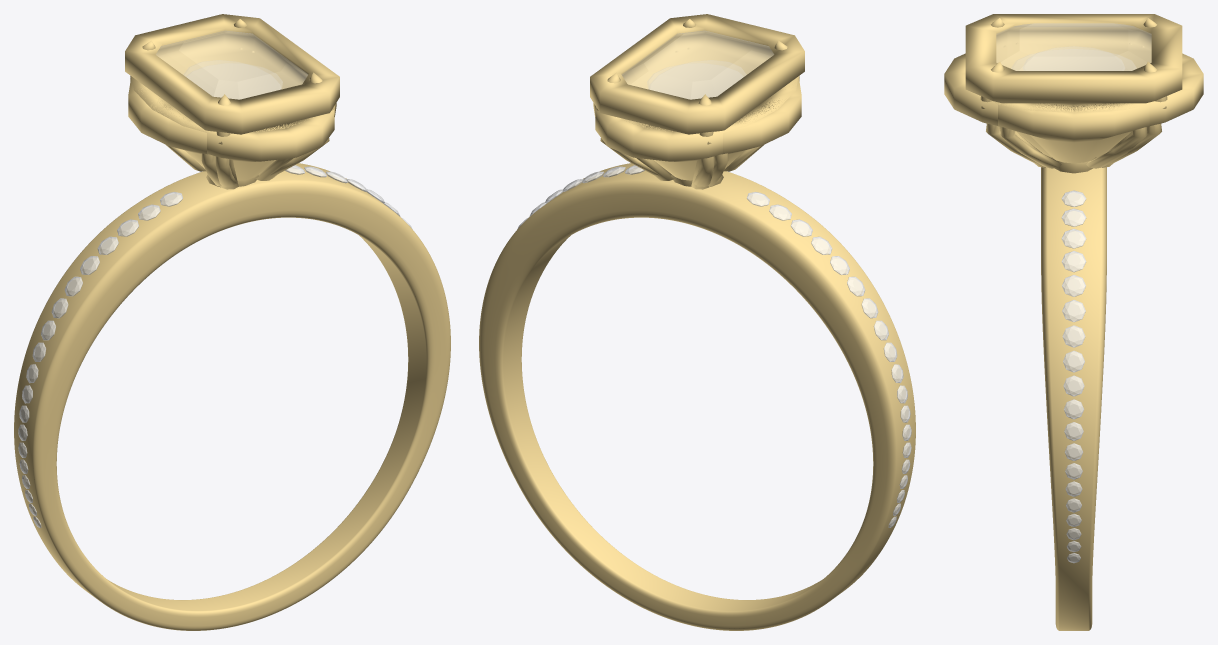
Rendered from ring.glb.
3 renders of one model, left to right at view 1: azimuth 30°, elevation 25°; view 2: azimuth 150°, elevation 25°; view 3: azimuth 270°, elevation 25°, orthographic.
Parts seen in each view (by area): view 1: band, bezel_emerald, stone_emerald, bezel_oval, pave, bezel_round, stone_oval, stone_round, prongs_emerald, prongs_oval, prongs_round; view 2: band, bezel_emerald, stone_emerald, bezel_oval, pave, bezel_round, stone_oval, stone_round, prongs_emerald, prongs_oval, prongs_round; view 3: band, bezel_emerald, stone_emerald, bezel_round, pave, bezel_oval, stone_oval, prongs_round, stone_round, prongs_oval, prongs_emerald.
Boxes of the visible parts, <box> form: band: <box>14,163,450,630</box>; bezel_emerald: <box>125,14,339,134</box>; stone_emerald: <box>156,31,307,99</box>; bezel_oval: <box>130,76,334,180</box>; pave: <box>18,165,412,527</box>; bezel_round: <box>128,78,336,168</box>; stone_oval: <box>184,60,279,98</box>; stone_round: <box>187,64,282,98</box>; prongs_emerald: <box>130,19,334,189</box>; prongs_oval: <box>215,47,329,186</box>; prongs_round: <box>166,51,254,186</box>; band: <box>479,163,915,630</box>; bezel_emerald: <box>590,14,804,134</box>; stone_emerald: <box>622,31,773,99</box>; bezel_oval: <box>595,76,799,180</box>; pave: <box>517,165,911,527</box>; bezel_round: <box>593,78,801,168</box>; stone_oval: <box>650,60,745,98</box>; stone_round: <box>647,64,742,98</box>; prongs_emerald: <box>595,19,799,189</box>; prongs_oval: <box>600,47,714,186</box>; prongs_round: <box>675,51,763,186</box>; band: <box>1041,167,1106,630</box>; bezel_emerald: <box>965,14,1182,160</box>; stone_emerald: <box>996,23,1151,70</box>; bezel_round: <box>993,101,1154,163</box>; pave: <box>1061,190,1086,563</box>; bezel_oval: <box>944,53,1203,157</box>; stone_oval: <box>1012,49,1135,70</box>; prongs_round: <box>1000,42,1147,168</box>; stone_round: <box>1025,47,1122,70</box>; prongs_oval: <box>986,45,1161,164</box>; prongs_emerald: <box>980,18,1167,167</box>.
Size of the model in its own units: 1.42 by 1.81 by 0.7466.
